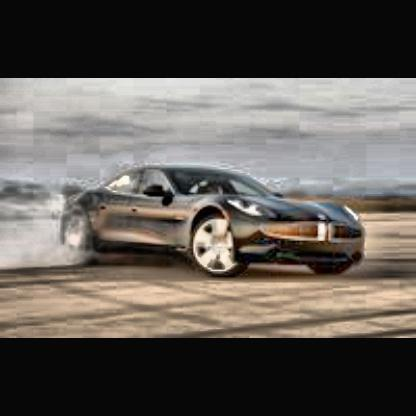Fisker Karma Sedan 2012: (66, 164, 371, 280)
